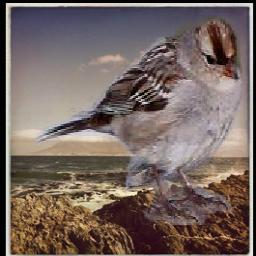Sparrow: (36, 17, 249, 226)
